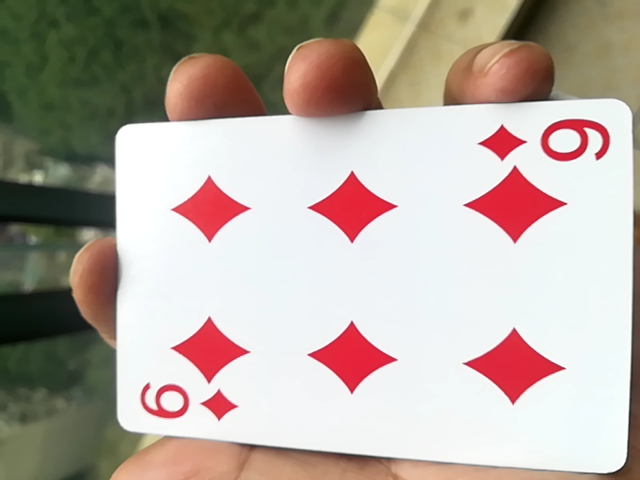fk 6: (92, 112, 631, 475)
